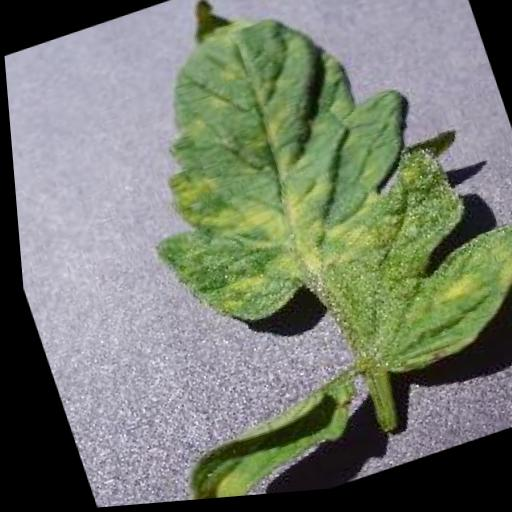Leaf Mold: (78, 0, 512, 444), (115, 365, 373, 506)
